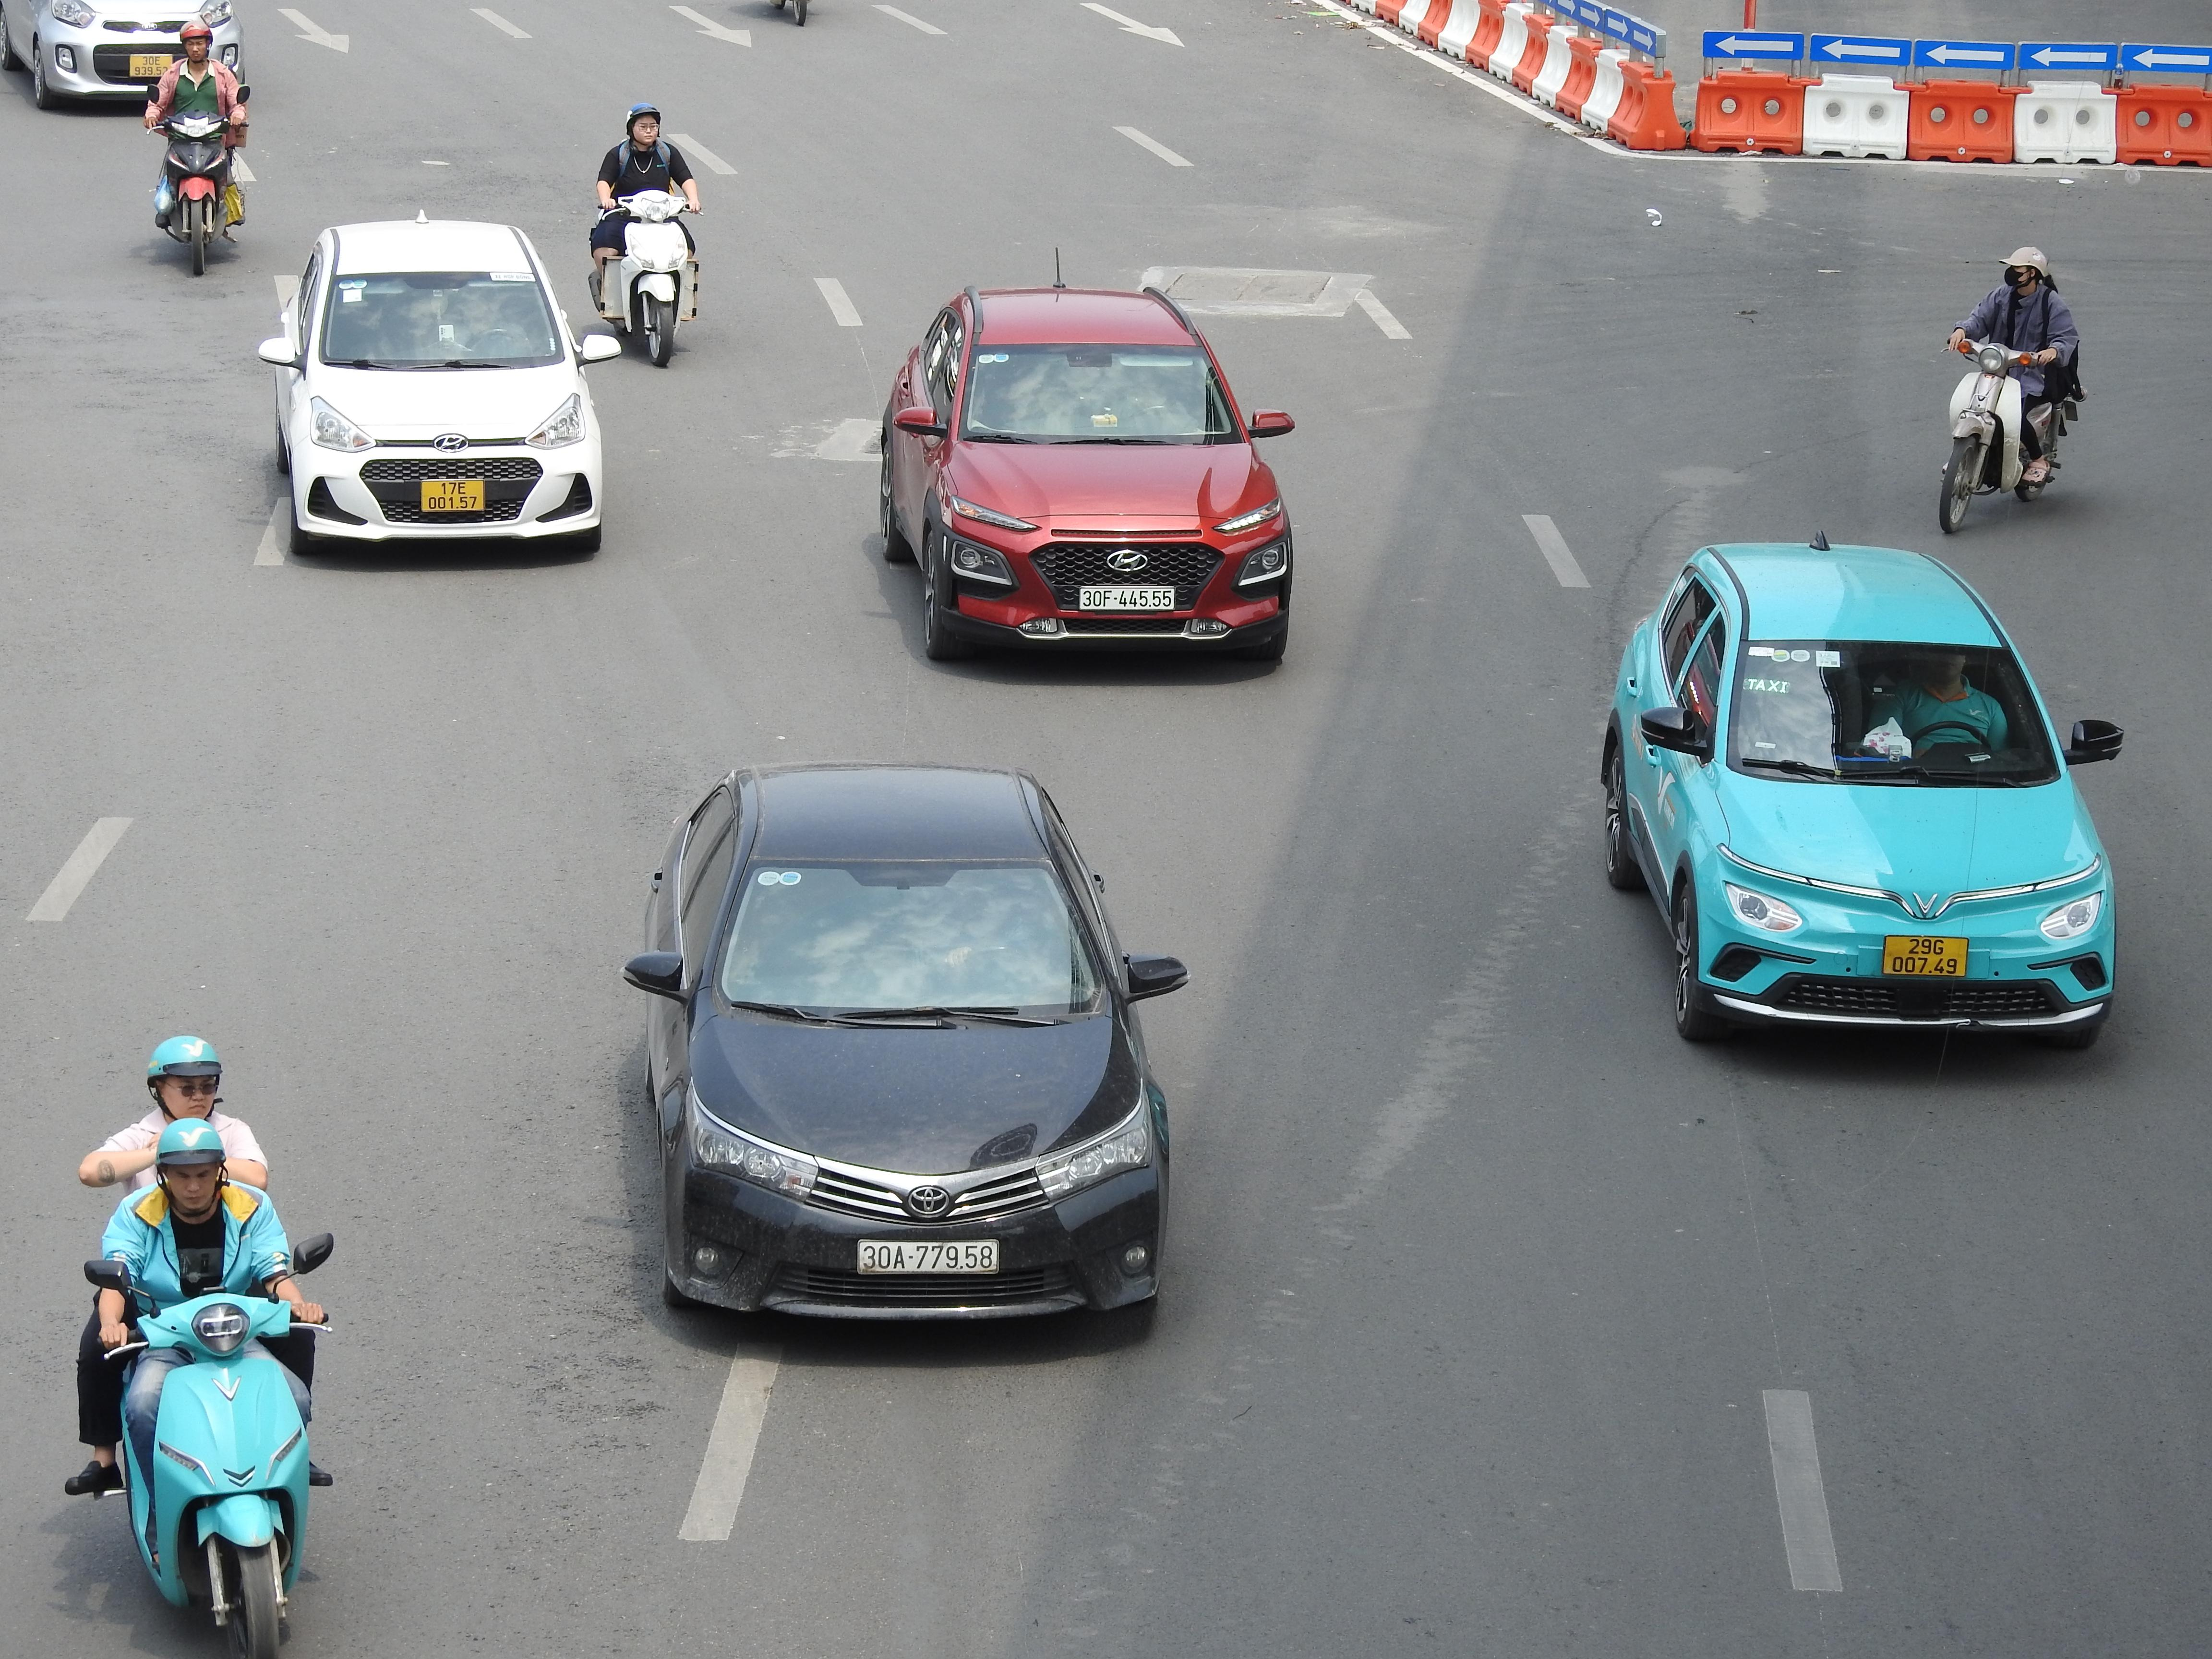BSD: (857, 1239, 998, 1276), (1078, 587, 1176, 612)
BSV: (1883, 936, 1968, 978), (421, 479, 486, 512), (131, 54, 164, 78)
car: (618, 762, 1188, 1331), (1595, 538, 2125, 1053), (874, 282, 1298, 667), (256, 218, 617, 559), (0, 0, 246, 112)
motorbike: (68, 1046, 334, 1659), (1937, 246, 2083, 535), (589, 105, 702, 369), (146, 23, 249, 277)
